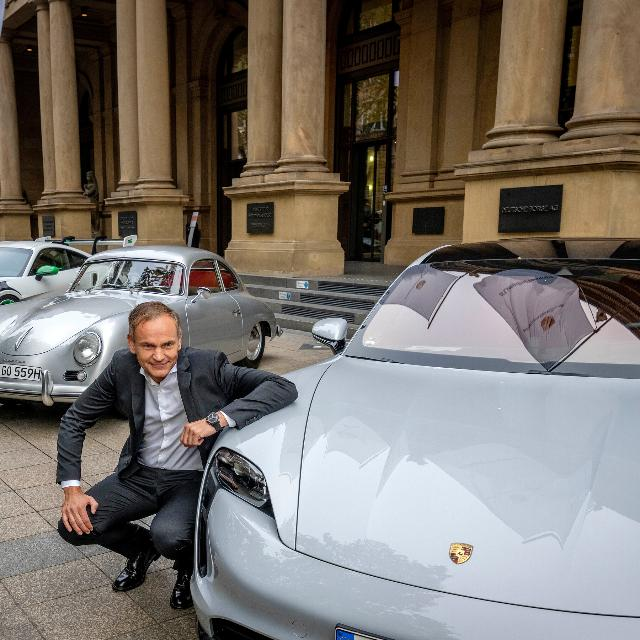porsche: (190, 236, 640, 640)
